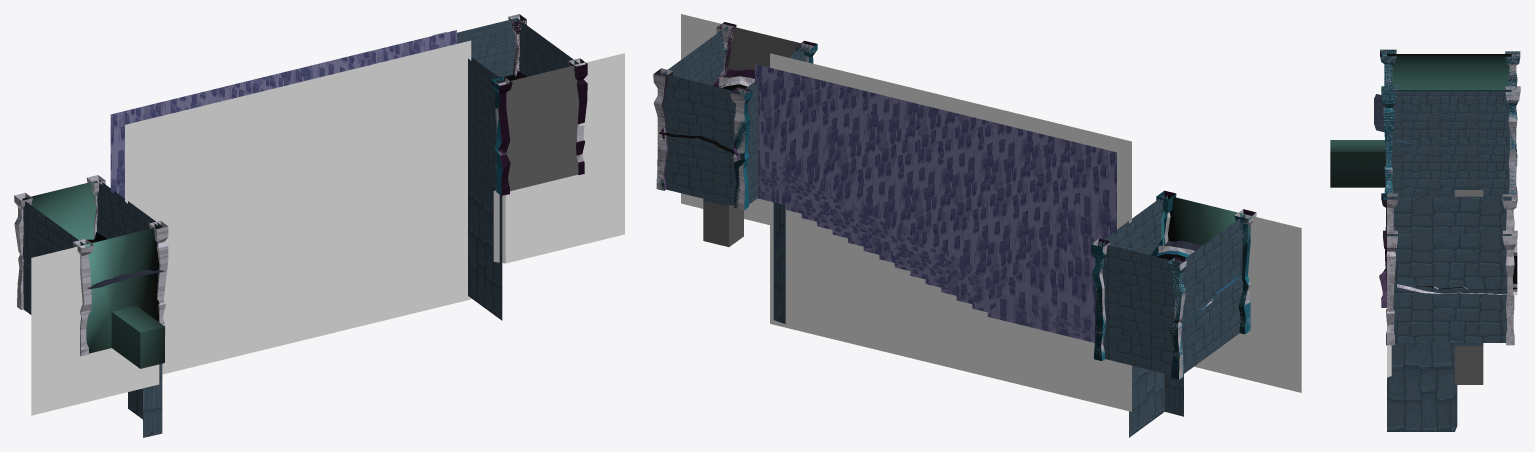
Rendered from jin_11.dae.
3 renders of one model, left to right at view 1: azimuth 30°, elevation 25°; view 2: azimuth 150°, elevation 25°; view 3: azimuth 270°, elevation 25°, orthographic. The views are drawn at different scales.
Visible parts, largest first — view 1: a_gawa03, S_msk_s, S_kai_part0, S_msk_r, a_yuka, S_msk_l, a_gawa06_part1, polySurface883, a_gawa02, S_kabe_l, a_gawa06_part0, S_hasi_l (+4 smaller); view 2: a_gawa02, S_kai_part0, S_kabe_l, S_msk_l, pPlane9, S_kabe_r, a_gawa03, a_hashira, a_gawa06_part1, polySurface883, polySurface880, a_yuka (+7 smaller); view 3: S_kabe_r, polySurface880, a_yuka, polySurface883, S_hasi_r, a_hashira, S_hasi_l, a_gawa06_part1, a_hashira02, a_hari01, S_hari_r, a_hari02 (+1 smaller).
Boxes of the visible parts, <box> form: a_gawa03: <box>125,40,471,301</box>; S_msk_s: <box>131,63,467,291</box>; S_kai_part0: <box>162,171,471,374</box>; S_msk_r: <box>493,53,624,263</box>; a_yuka: <box>22,180,164,368</box>; S_msk_l: <box>31,245,159,415</box>; a_gawa06_part1: <box>505,65,579,190</box>; polySurface883: <box>468,58,502,320</box>; a_gawa02: <box>110,30,456,198</box>; S_kabe_l: <box>22,181,154,314</box>; a_gawa06_part0: <box>457,18,578,82</box>; S_hasi_l: <box>14,175,168,356</box>; a_gawa02: <box>755,64,1116,341</box>; S_kai_part0: <box>770,201,1131,411</box>; S_kabe_l: <box>1102,199,1245,374</box>; S_msk_l: <box>1194,214,1301,392</box>; pPlane9: <box>758,162,1095,342</box>; S_kabe_r: <box>662,73,739,205</box>; a_gawa03: <box>770,53,1131,273</box>; a_hashira: <box>1091,190,1255,379</box>; a_gawa06_part1: <box>703,27,800,246</box>; polySurface883: <box>743,46,809,323</box>; polySurface880: <box>1099,195,1183,437</box>; a_yuka: <box>1161,195,1244,245</box>; S_kabe_r: <box>1387,198,1511,342</box>; polySurface880: <box>1387,91,1511,196</box>; a_yuka: <box>1330,54,1511,187</box>; polySurface883: <box>1387,196,1511,431</box>; S_hasi_r: <box>1387,193,1517,345</box>; a_hashira: <box>1380,49,1520,194</box>; S_hasi_l: <box>1380,50,1520,194</box>; a_gawa06_part1: <box>1455,344,1483,384</box>; a_hashira02: <box>1379,193,1514,345</box>; a_hari01: <box>1374,94,1415,144</box>; S_hari_r: <box>1397,241,1517,295</box>; a_hari02: <box>1397,256,1517,292</box>.
Bounding box in the file's own units: 120 × 54.9 × 33.57.
